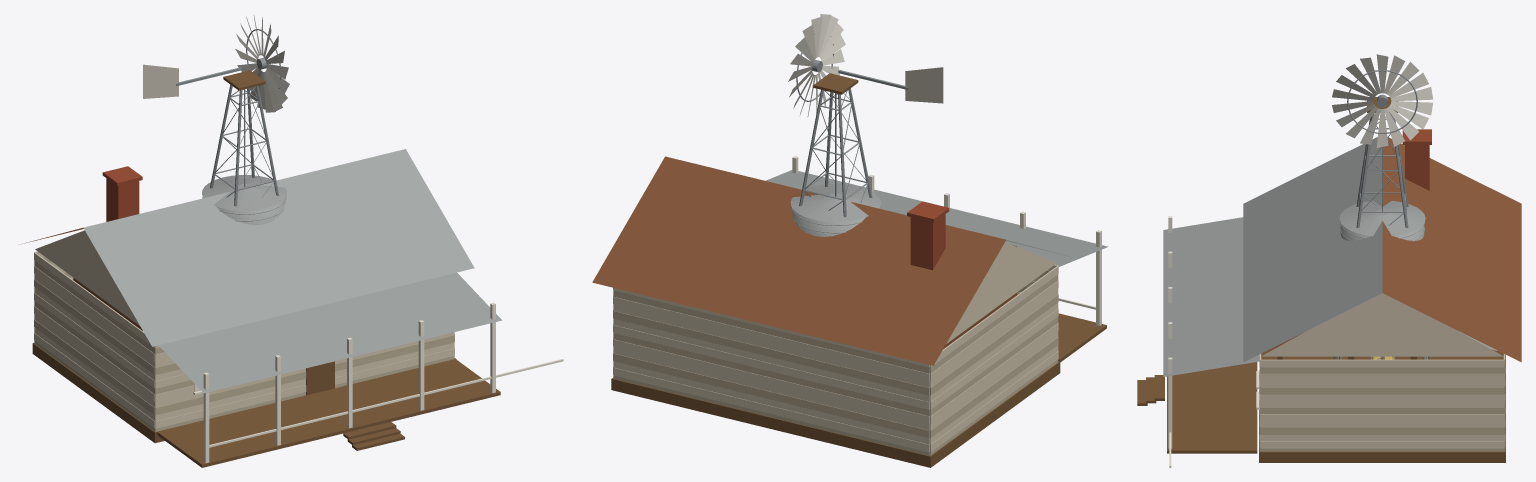
Rendered from farm.glb.
3 renders of one model, left to right at view 1: azimuth 30°, elevation 25°; view 2: azimuth 150°, elevation 25°; view 3: azimuth 270°, elevation 25°, orthographic. The views are drawn at different scales.
Visible parts, largest first — view 1: KEEP House, KEEP WindmillTower, KEEP Tank, KEEP WindmillRotor; view 2: KEEP House, KEEP WindmillTower, KEEP Tank, KEEP WindmillRotor; view 3: KEEP House, KEEP WindmillRotor, KEEP Tank, KEEP WindmillTower.
Boxes of the visible parts, x1,y1,x2,y2 form: KEEP House: (21, 149, 563, 467); KEEP WindmillTower: (143, 64, 279, 206); KEEP Tank: (202, 175, 286, 224); KEEP WindmillRotor: (235, 15, 289, 112); KEEP House: (592, 156, 1108, 467); KEEP WindmillTower: (799, 67, 943, 217); KEEP Tank: (790, 184, 880, 236); KEEP WindmillRotor: (788, 14, 845, 117); KEEP House: (1137, 129, 1521, 467); KEEP WindmillRotor: (1332, 54, 1433, 147); KEEP Tank: (1339, 200, 1425, 359); KEEP WindmillTower: (1333, 97, 1431, 359).
Bounding box in the file's own units: 12.55 × 11.05 × 11.05.
